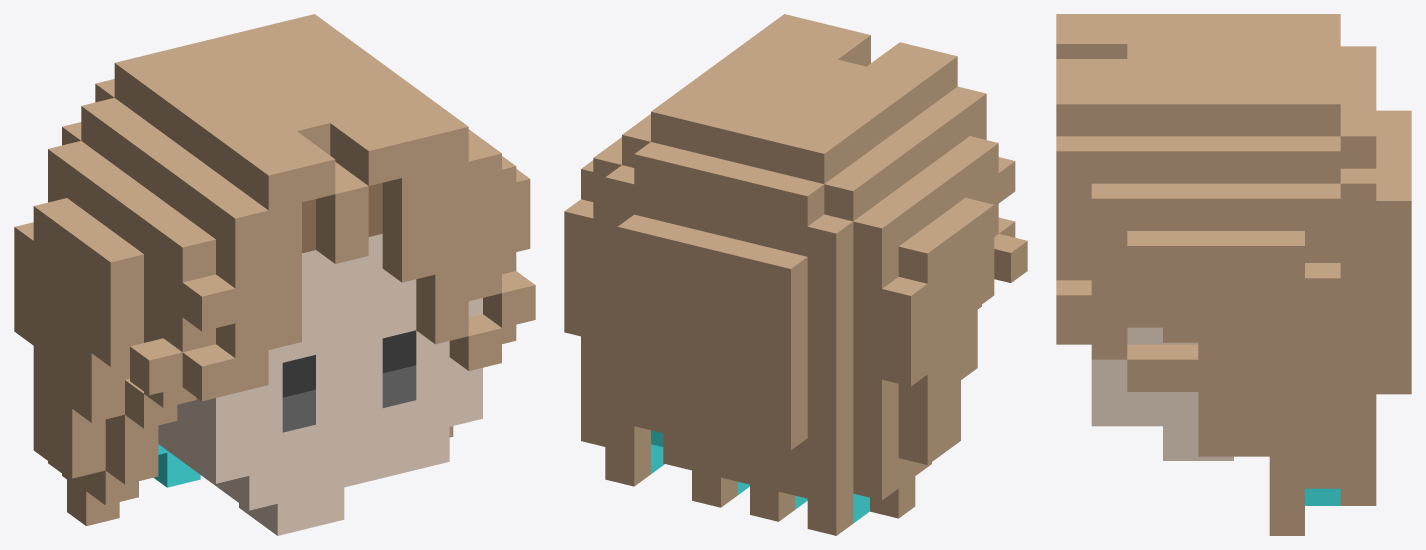
The model's file is head modeling.obj.
The picture shows the model from 3 angles, left to right: view 1: azimuth 30°, elevation 25°; view 2: azimuth 150°, elevation 25°; view 3: azimuth 270°, elevation 25°; orthographic projection. The views are drawn at different scales.
Bounding box in the file's own units: 1.2 × 1.2 × 1.
Materials: 1 (1 with a texture image).
